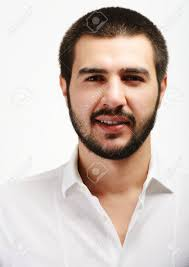middle_eastern_male: (62, 25, 167, 151)
